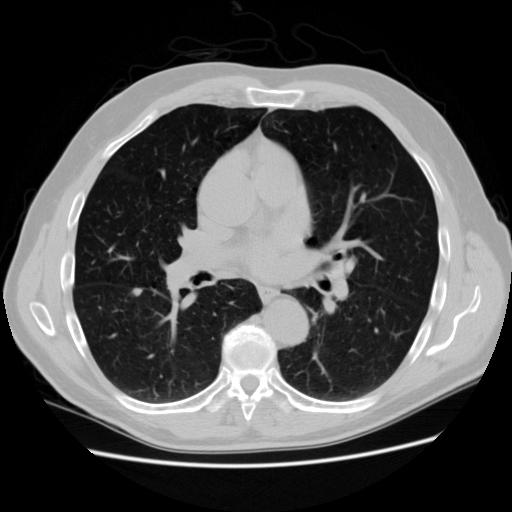nodule: (129, 284, 144, 299)
